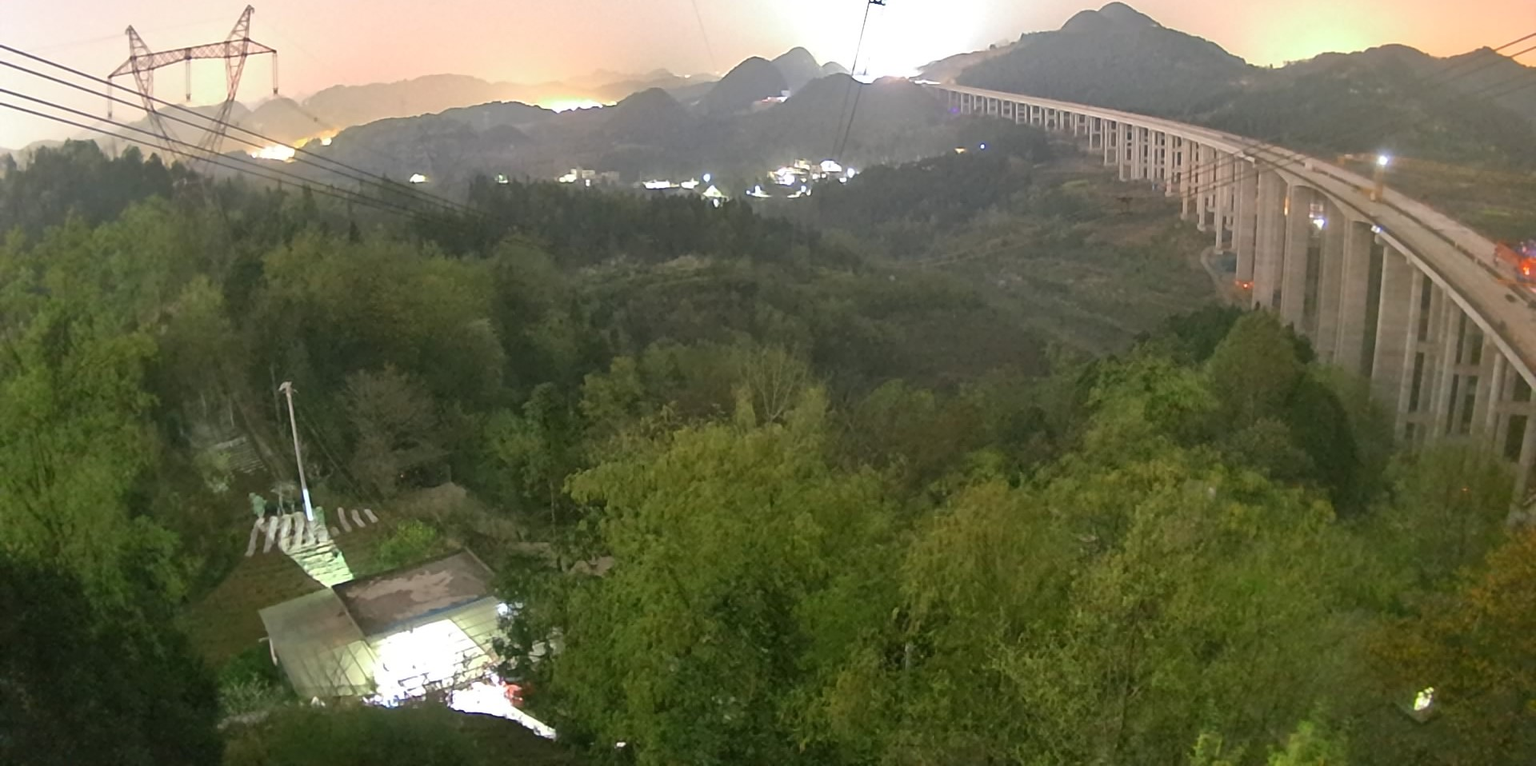过爆灯光: (760, 0, 1007, 83), (366, 619, 474, 706), (450, 675, 558, 739), (538, 97, 617, 112), (250, 144, 296, 162), (409, 174, 426, 183), (321, 137, 331, 146)
